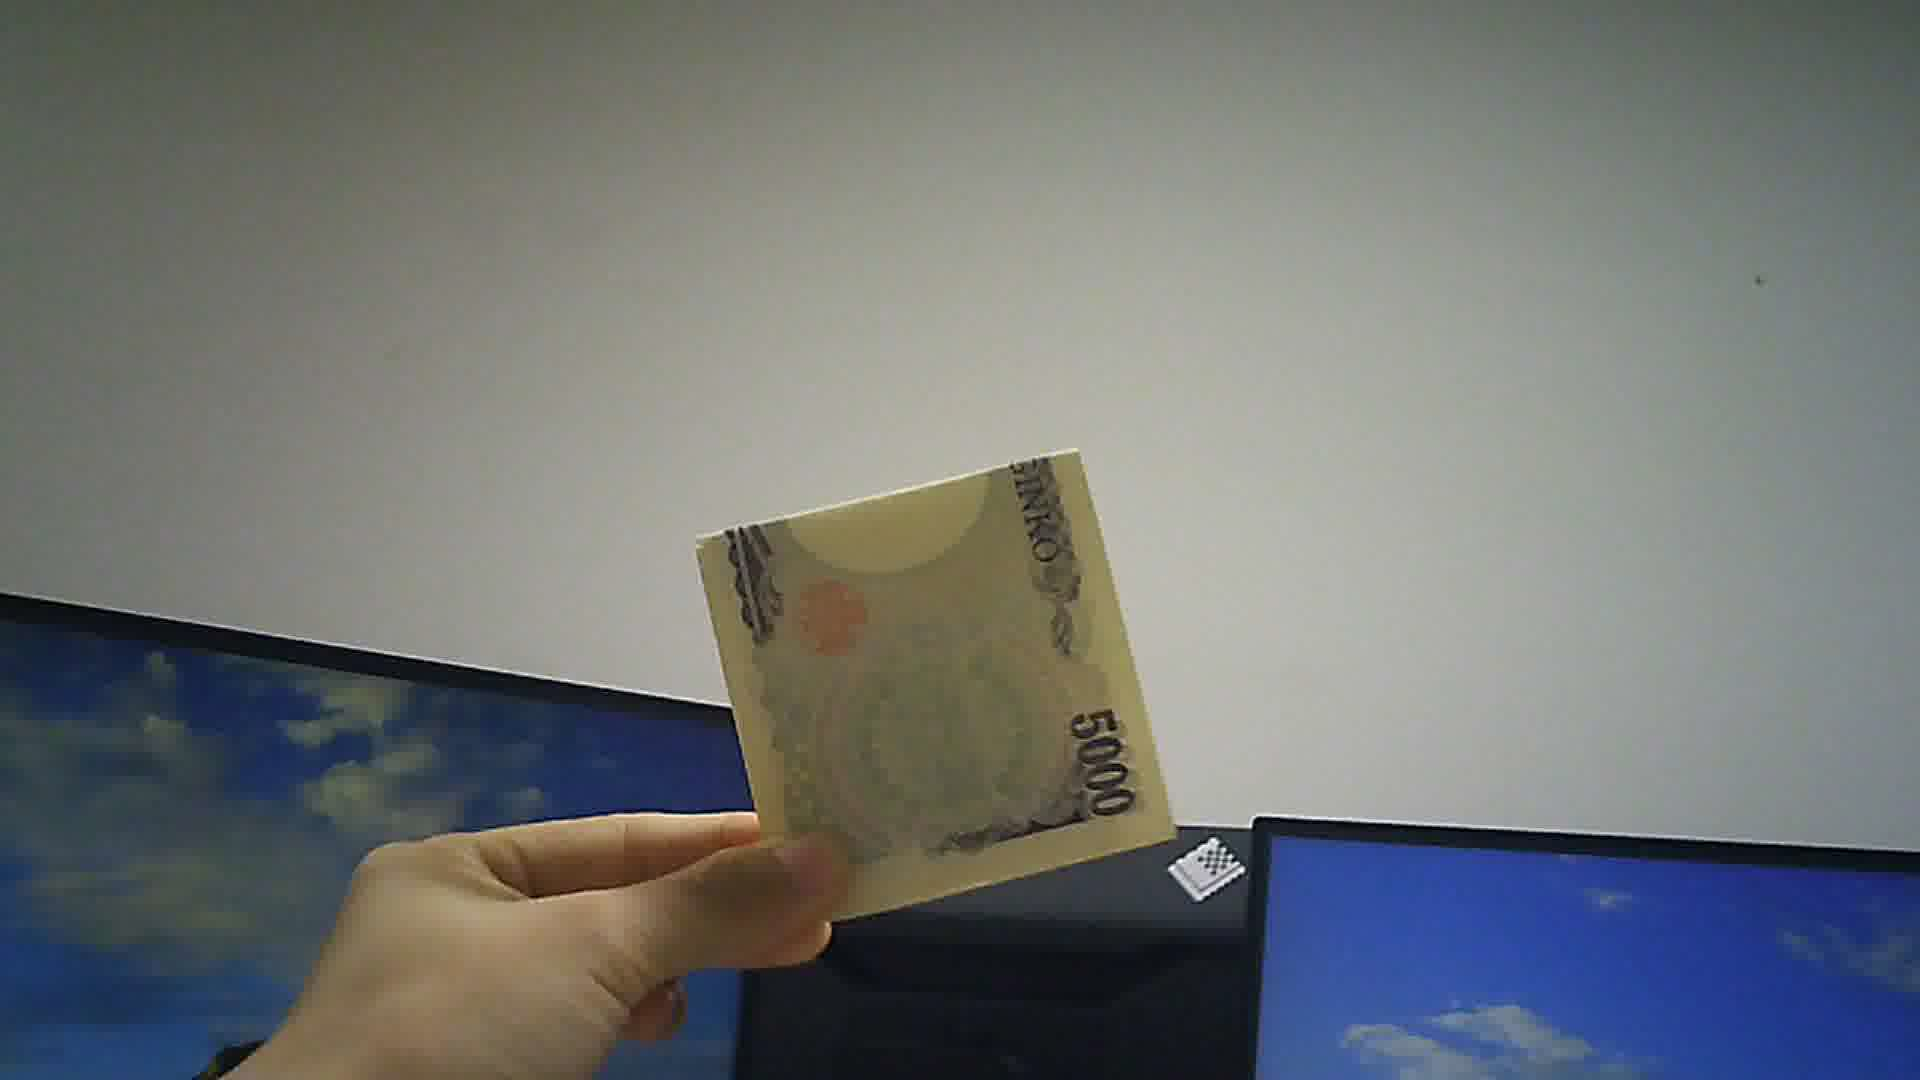5,000 Yen: (682, 430, 1191, 949)
